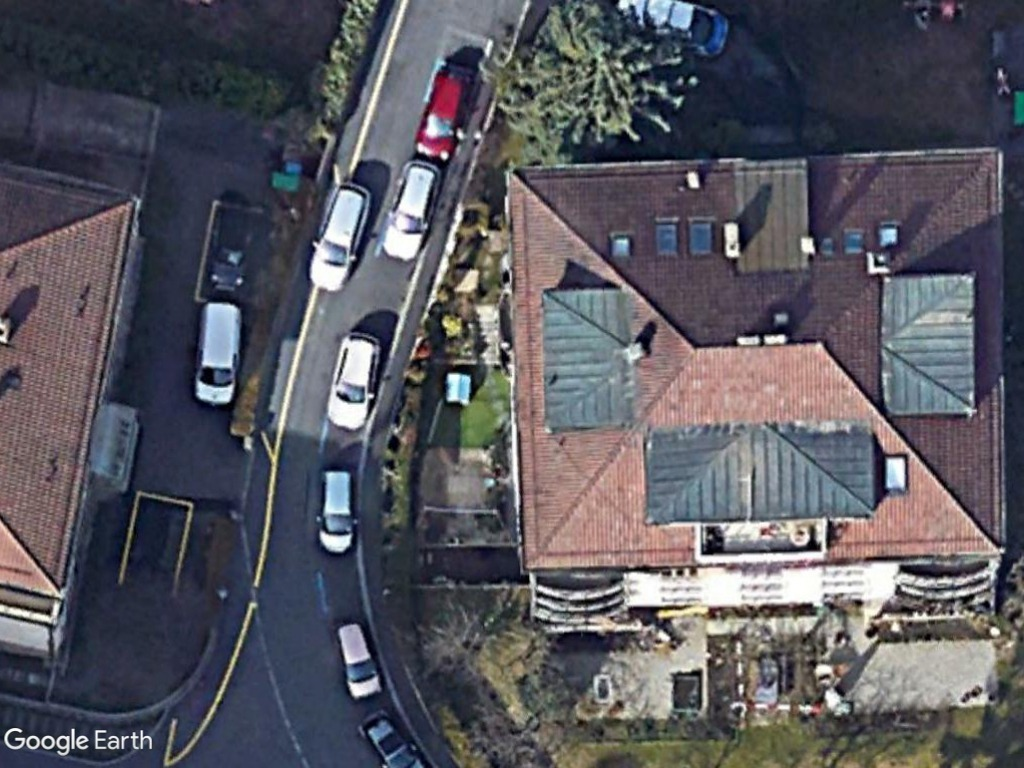car: (306, 181, 373, 296), (378, 157, 441, 260), (413, 63, 477, 163), (322, 329, 383, 433), (330, 617, 384, 703), (315, 464, 360, 556)
van: (194, 296, 244, 407)
